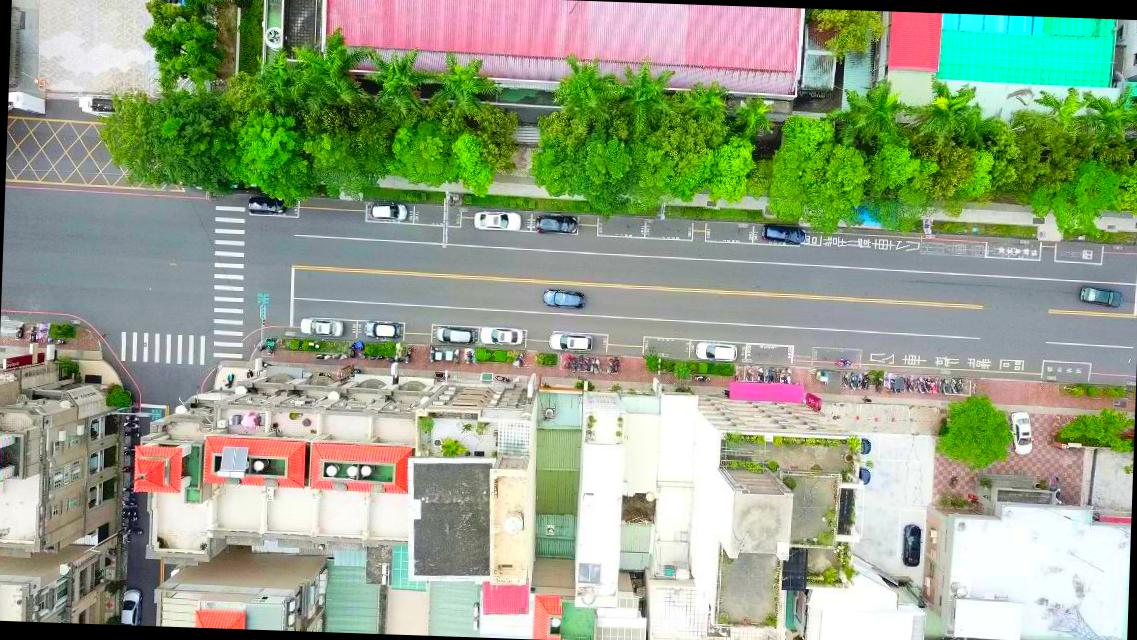vehicle: (1008, 410, 1034, 456), (758, 222, 806, 245), (473, 210, 522, 232), (541, 288, 585, 312), (533, 213, 578, 236), (1078, 286, 1122, 309), (477, 324, 522, 346), (298, 317, 344, 338), (900, 522, 921, 568), (118, 586, 142, 624), (434, 326, 474, 348), (548, 332, 592, 352), (694, 342, 737, 362), (248, 194, 288, 215), (360, 320, 399, 339), (366, 202, 406, 220)
